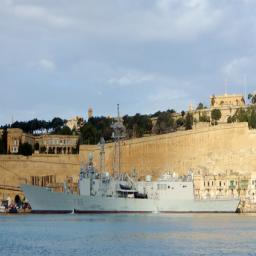Fragata: (19, 137, 244, 215)
